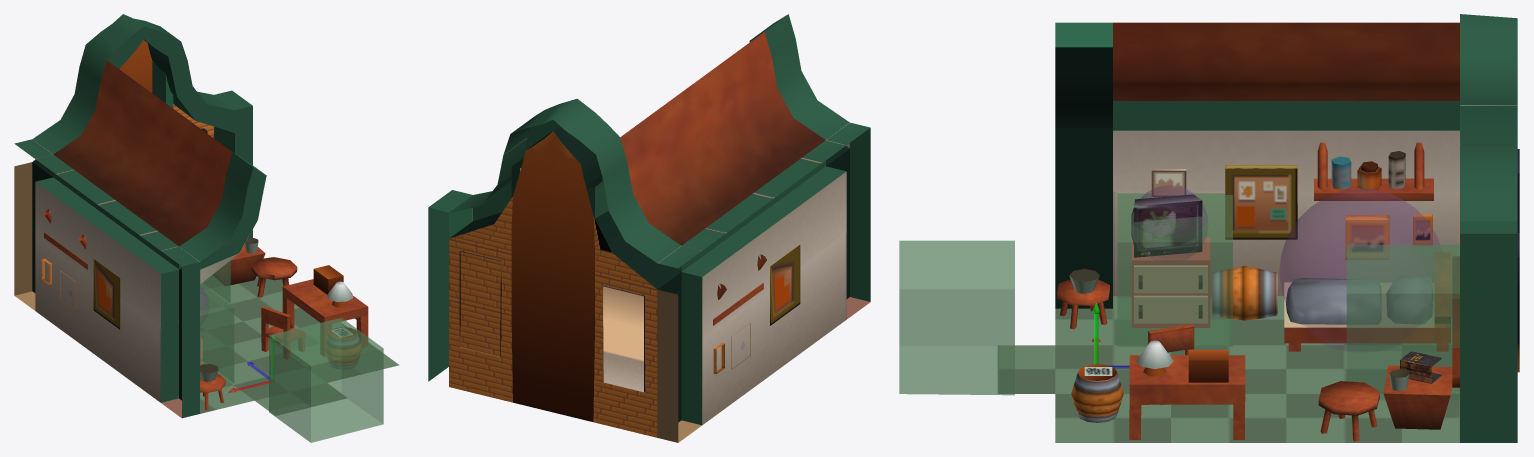
File: house.gltf
3 renders of one model, left to right at view 1: azimuth 30°, elevation 25°; view 2: azimuth 150°, elevation 25°; view 3: azimuth 270°, elevation 25°, orthographic. The views are drawn at different scales.
Visible parts, largest first — view 1: Room, Trigger.Forest, Table, Trigger.CameraTV, Board, Chair, Barrel2.001, Table_small, Table 2, Trigger.CameraWindow, Plane, Radio (+4 smaller); view 2: Room, Windows, Board, Plane, Shelf; view 3: Room, Trigger.Forest, Trigger.CameraTV, Trigger.CameraWindow, Interact.Bed, Drawer, Board, Bed, Table, Blanket, TV, Barrel2 (+19 smaller).
Part boxes in pixels (box(x1,y1,x2,y2)): Room: box(14, 14, 399, 418); Trigger.Forest: box(269, 317, 383, 442); Table: box(282, 279, 368, 356); Trigger.CameraTV: box(200, 283, 234, 385); Board: box(93, 259, 120, 329); Chair: box(261, 306, 304, 359); Barrel2.001: box(324, 327, 361, 369); Table_small: box(213, 244, 265, 285); Table 2: box(251, 257, 297, 297); Trigger.CameraWindow: box(202, 260, 230, 303); Plane: box(152, 61, 173, 108); Radio: box(313, 265, 343, 294); Room: box(428, 14, 870, 442); Windows: box(459, 251, 644, 392); Board: box(770, 245, 800, 325); Plane: box(511, 158, 608, 218); Shelf: box(713, 254, 766, 325); Room: box(997, 14, 1517, 442); Trigger.Forest: box(899, 240, 1014, 395); Trigger.CameraTV: box(1117, 193, 1232, 346); Trigger.CameraWindow: box(1346, 244, 1459, 399); Interact.Bed: box(1279, 189, 1439, 350); Drawer: box(1131, 237, 1210, 327); Board: box(1225, 165, 1297, 239); Bed: box(1284, 252, 1450, 351); Table: box(1129, 355, 1245, 439); Blanket: box(1286, 278, 1381, 324); TV: box(1131, 194, 1202, 257); Barrel2: box(1212, 266, 1277, 320).
Size of what is drawn, in the model's own units: 4.94 by 5.69 by 8.6.
Materials: 6 (1 with a texture image).
